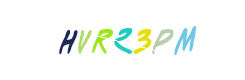2: (83, 0, 163, 80)
3: (85, 0, 165, 80)
H: (28, 0, 108, 80)
M: (127, 0, 207, 80)
P: (104, 0, 184, 80)
R: (82, 0, 162, 80)
V: (62, 0, 142, 80)
